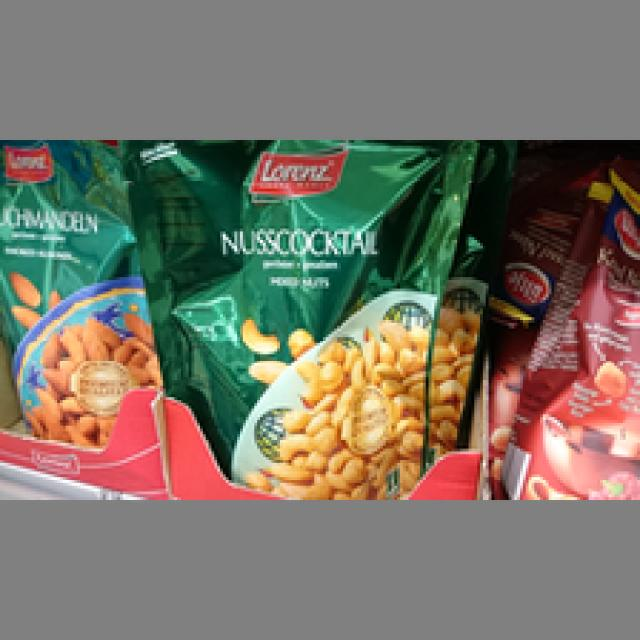groceries: (117, 137, 477, 494)
